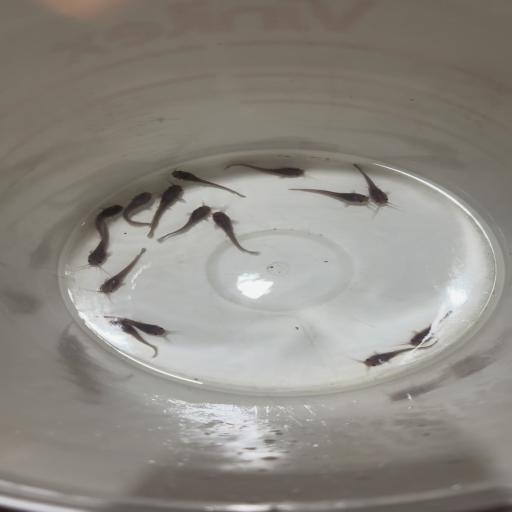lele: (90, 247, 153, 301), (354, 337, 442, 370), (152, 203, 216, 247), (402, 306, 468, 348), (140, 180, 186, 238), (350, 162, 402, 213), (169, 166, 248, 198), (104, 316, 160, 361), (210, 210, 262, 256), (83, 311, 175, 337), (284, 184, 373, 210), (218, 159, 312, 180), (77, 222, 115, 270), (114, 187, 156, 229), (92, 200, 125, 239)
